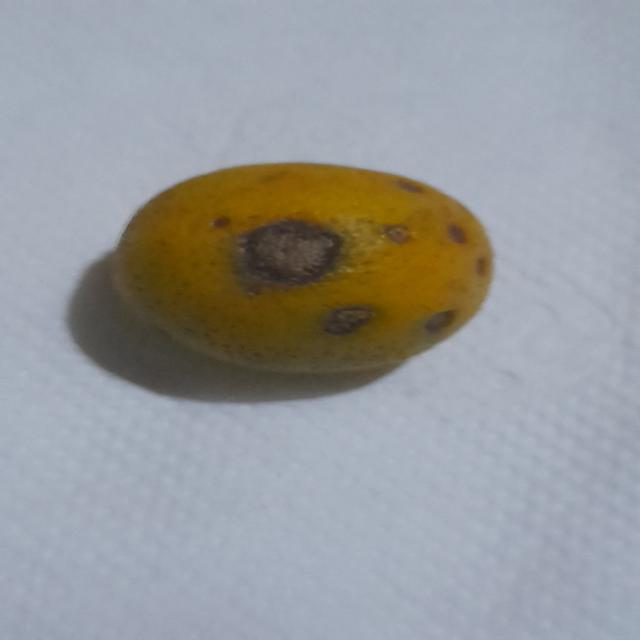black spot: (105, 156, 497, 380)
